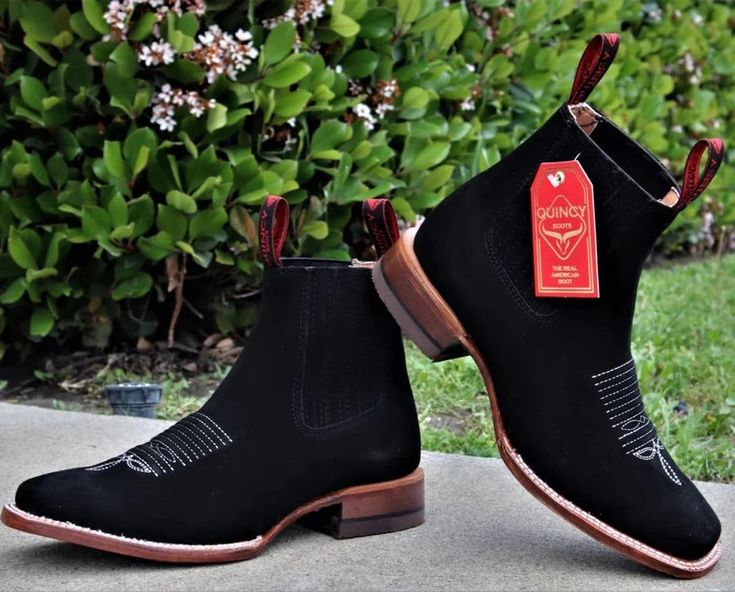gamuza: (16, 100, 722, 561)
